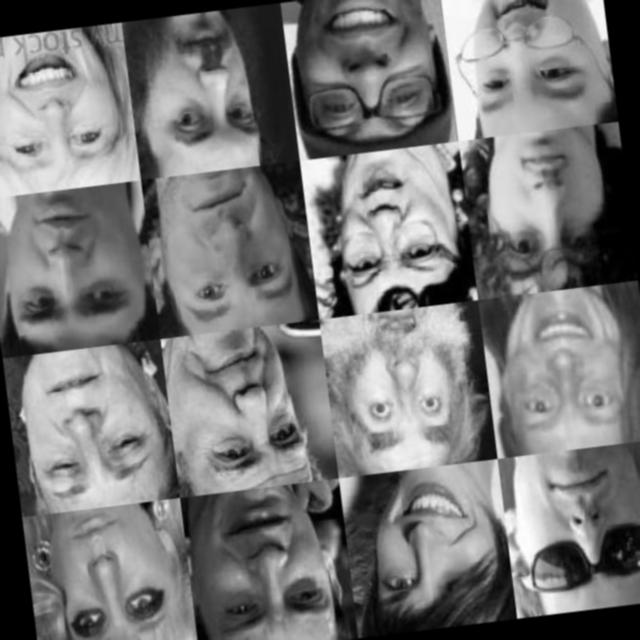angry: (327, 153, 452, 307)
fear: (343, 306, 468, 464), (146, 8, 269, 163)
happy: (293, 0, 443, 145), (362, 467, 499, 624), (500, 296, 636, 454), (0, 34, 122, 185), (460, 0, 599, 130)
neutral: (173, 329, 318, 487), (509, 447, 640, 612), (163, 175, 301, 331), (481, 134, 618, 291), (45, 505, 183, 640)
sad: (192, 491, 345, 640), (0, 191, 144, 337), (27, 355, 154, 507)
